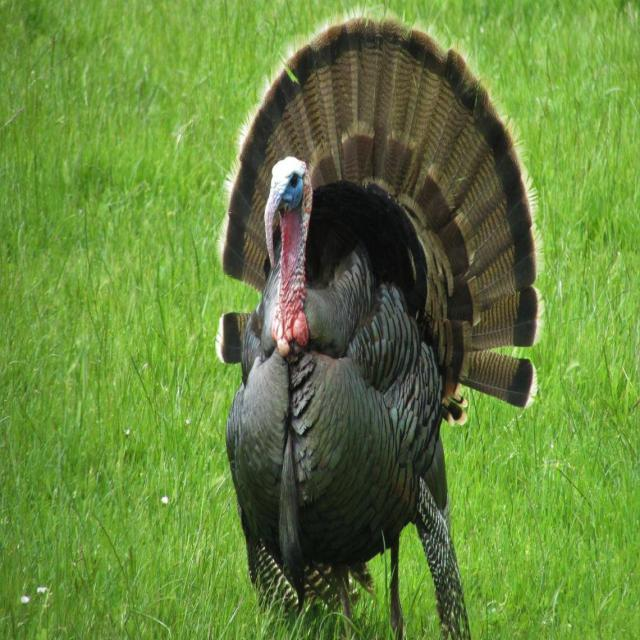turkey: (216, 19, 539, 639)
